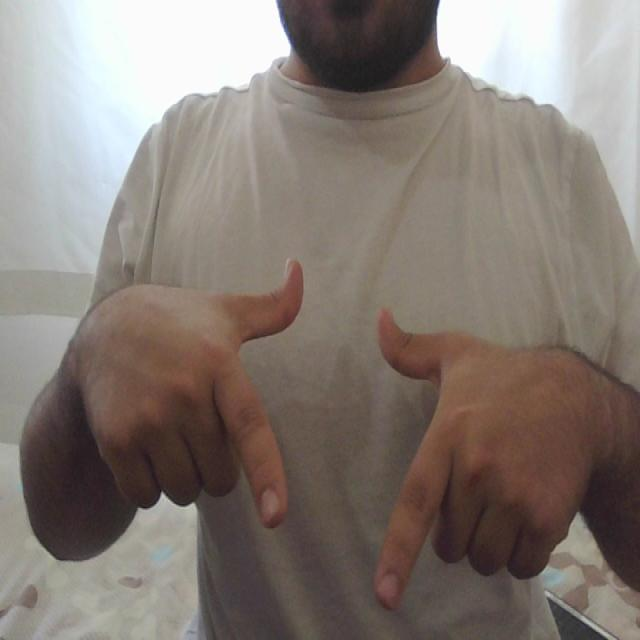Nerede: (196, 252, 488, 618)
